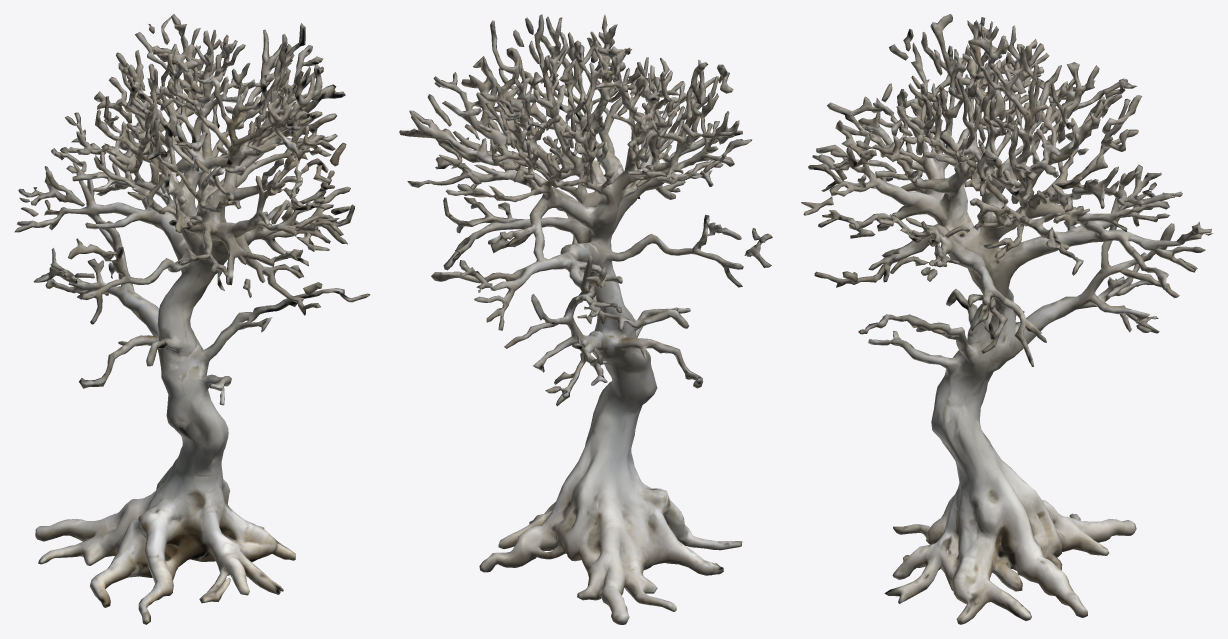
Rendered from AI_BoneTree.fbx.
The picture shows the model from 3 angles, left to right: view 1: azimuth 30°, elevation 25°; view 2: azimuth 150°, elevation 25°; view 3: azimuth 270°, elevation 25°; orthographic projection. The views are drawn at different scales.
Parts seen in each view (by area): view 1: Mesh1.0; view 2: Mesh1.0; view 3: Mesh1.0.
Part boxes in pixels (box(x1,y1,x2,y2)): Mesh1.0: box(14, 14, 370, 624); Mesh1.0: box(399, 14, 772, 624); Mesh1.0: box(801, 14, 1213, 624).
Bounding box in the file's own units: 129 × 198 × 136.
Materials: 1 (1 with a texture image).
